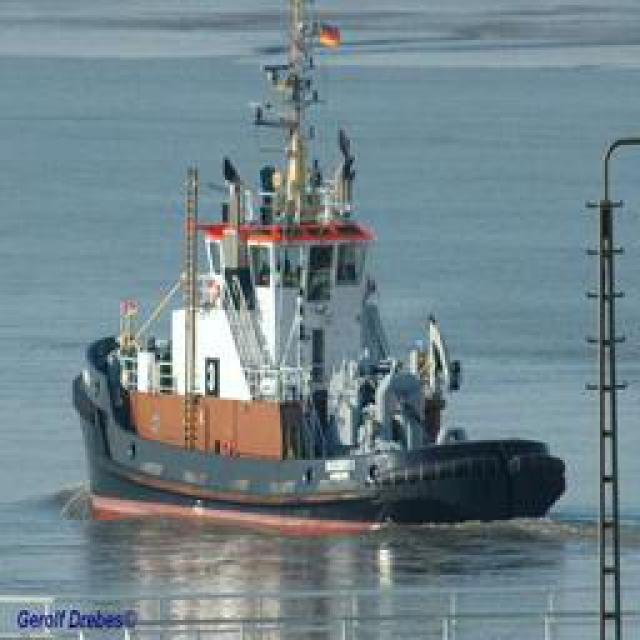Ship: (67, 6, 547, 524)
